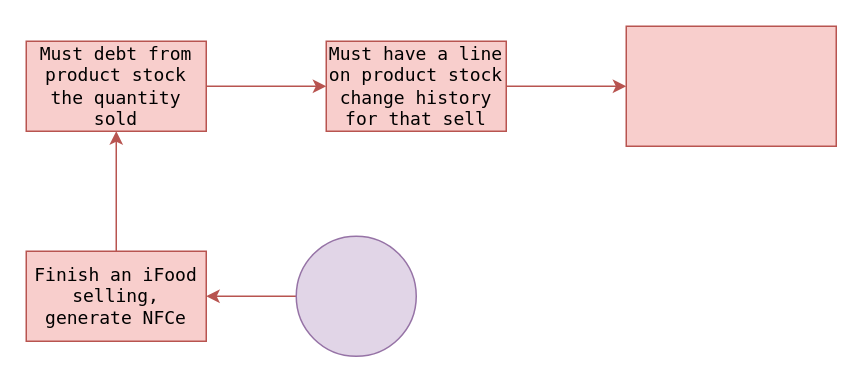
The diagram is 863 pixels wide and 383 high, and some of its shapes have lost their labels. The shapes that lost their labels are listed below. From the top down, each one's centre as x and y in pixels, then its label:
[730,85]: Changed the parameter baixarEstoque to true on method "SalvarVendasItens"
[355,295]: RFP-1364
